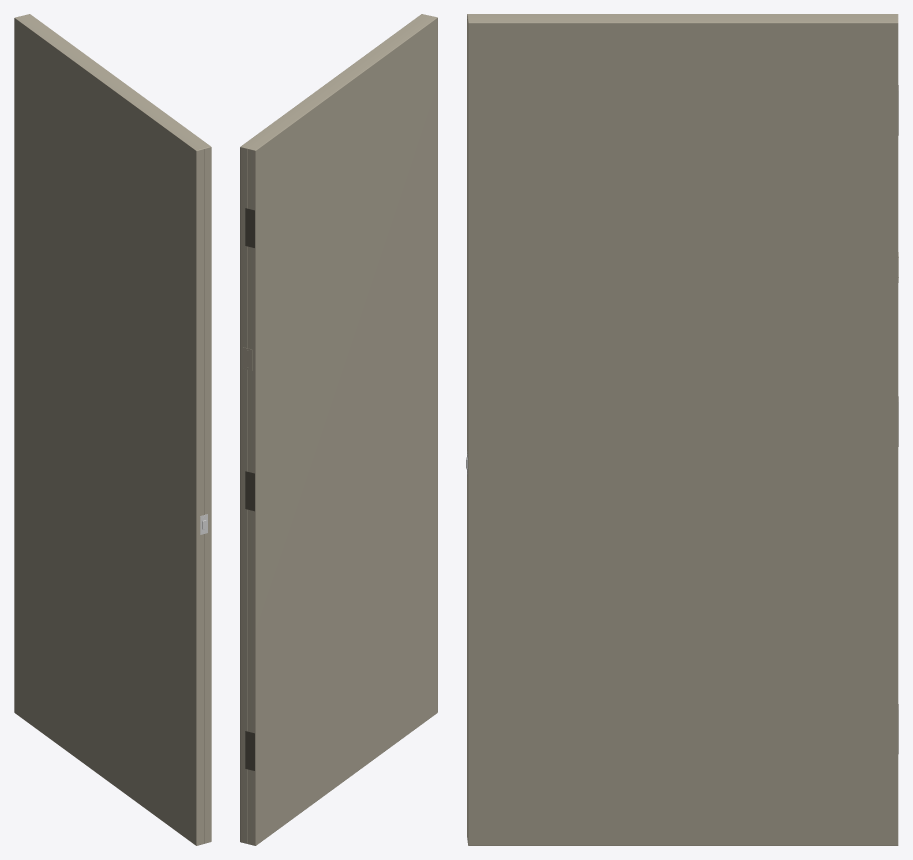
File: Kit_DoorLeaf_StairNorth.fbx
3 views of the same model, side by side, from view 1: azimuth 30°, elevation 25°; view 2: azimuth 150°, elevation 25°; view 3: azimuth 270°, elevation 25° (orthographic). The views are drawn at different scales.
Parts seen in each view (by area): view 1: Kit_DoorLeaf_StairNorth_LOD0; view 2: Kit_DoorLeaf_StairNorth_LOD0; view 3: Kit_DoorLeaf_StairNorth_LOD0.
Part boxes in pixels (x1,y1,x2,y2): Kit_DoorLeaf_StairNorth_LOD0: (14, 14, 211, 845); Kit_DoorLeaf_StairNorth_LOD0: (240, 14, 437, 845); Kit_DoorLeaf_StairNorth_LOD0: (466, 14, 898, 845).
Size of what is drawn, in the model's own units: 0.05 by 2.09 by 0.9953.
